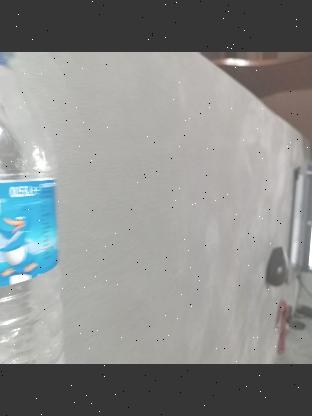Plastic Bottle: (0, 58, 68, 364)
